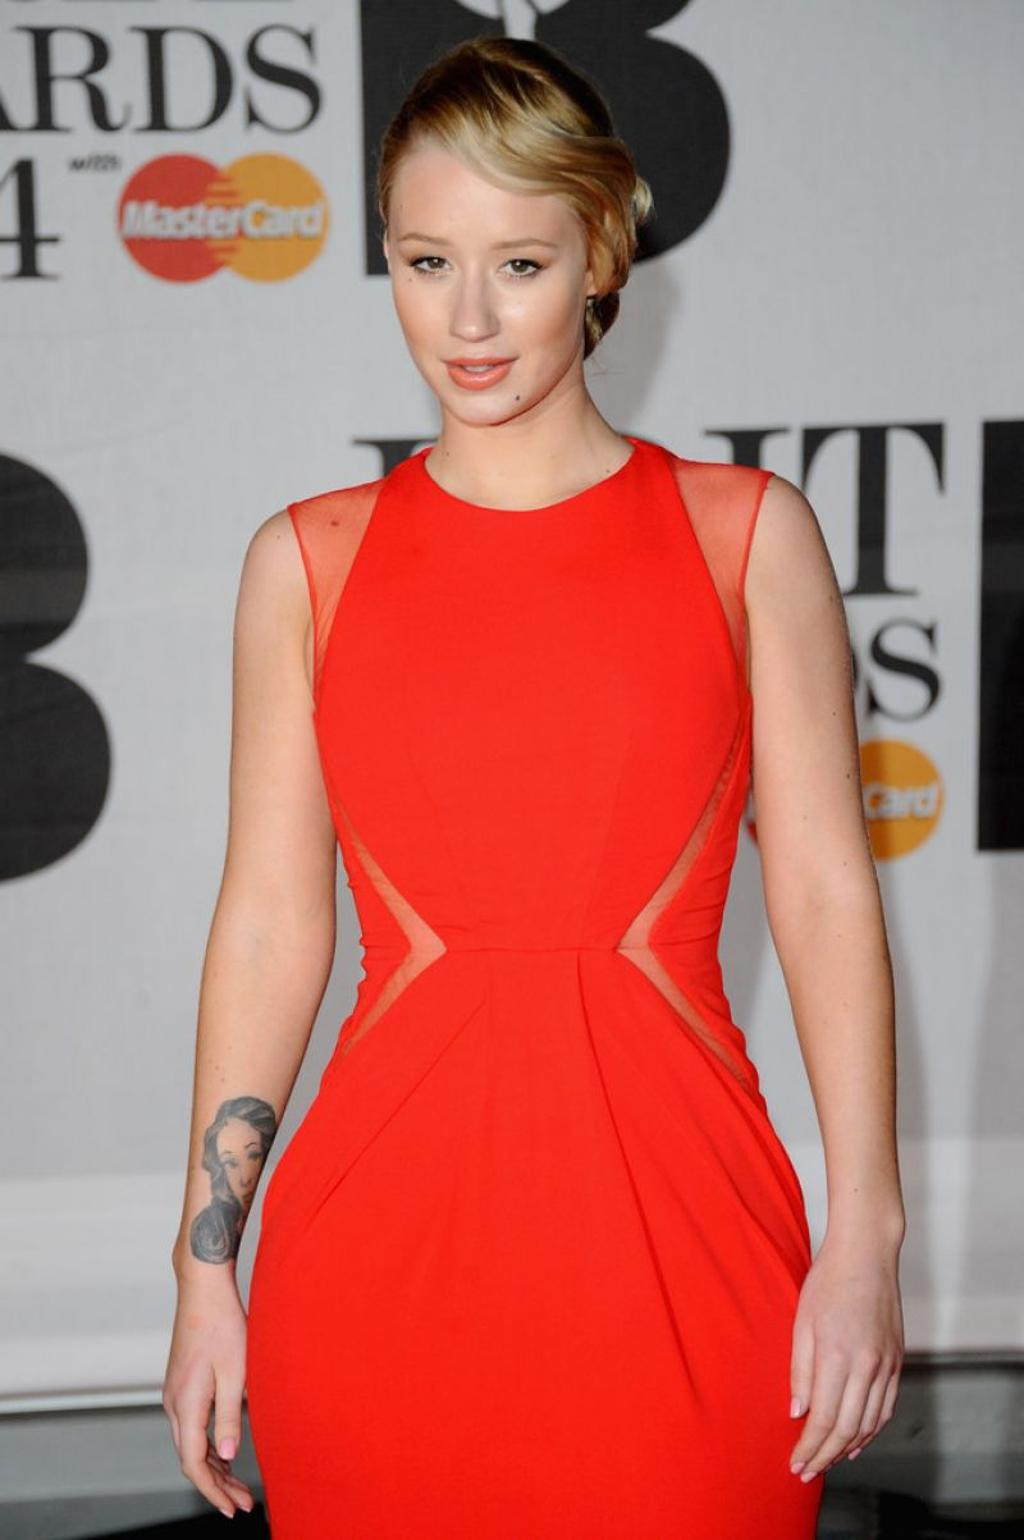face: (389, 130, 591, 419)
